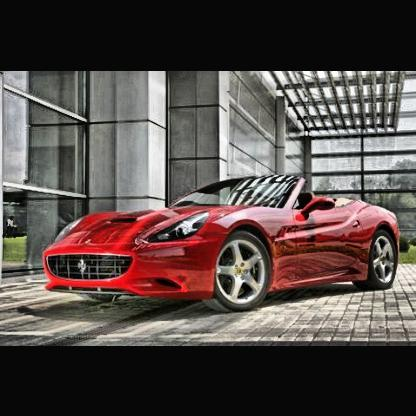Ferrari California Convertible 2012: (52, 176, 403, 313)
